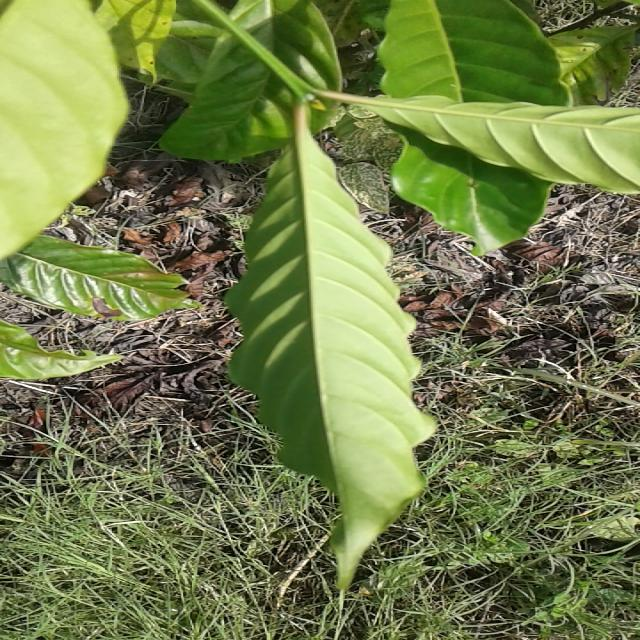Sanas: (225, 106, 436, 594)
